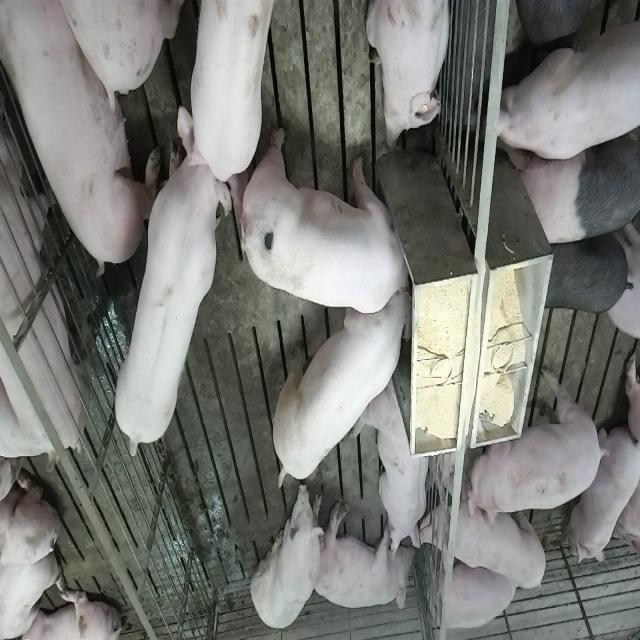Feeding: (243, 126, 420, 315), (267, 286, 410, 496)
Lateral_lying: (310, 499, 416, 614)
Sitting: (250, 481, 324, 633)
Standing: (0, 1, 96, 473), (112, 121, 228, 453), (496, 0, 638, 164), (464, 372, 610, 524), (170, 0, 275, 183), (516, 122, 638, 248), (530, 224, 636, 316)
Sternal_lying: (358, 374, 432, 556), (366, 0, 454, 151), (570, 418, 638, 566)
